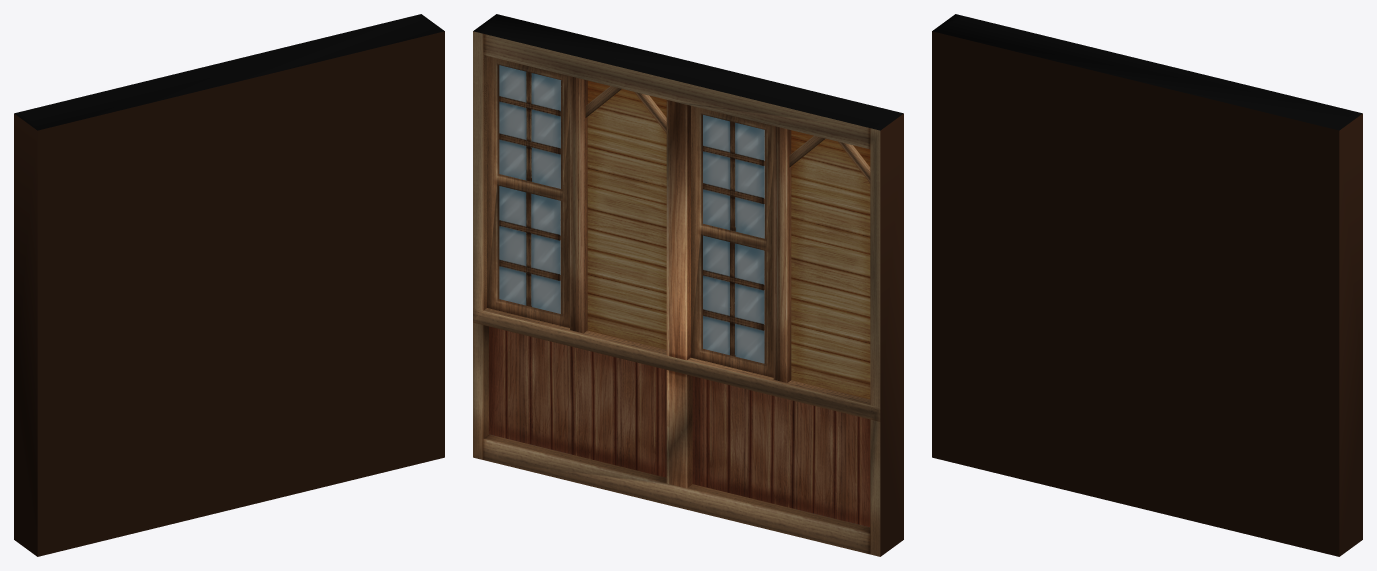
File: a_SWGowall02A.glb
The picture shows the model from 3 angles, left to right: view 1: azimuth 30°, elevation 25°; view 2: azimuth 150°, elevation 25°; view 3: azimuth 330°, elevation 25°; orthographic projection.
Parts seen in each view (by area): view 1: a_SWGowall02A; view 2: a_SWGowall02A; view 3: a_SWGowall02A.
Boxes of the visible parts, <box> form: a_SWGowall02A: <box>14,14,444,556</box>; a_SWGowall02A: <box>473,14,903,556</box>; a_SWGowall02A: <box>932,14,1362,556</box>.
Bounding box in the file's own units: 3 × 3 × 0.3004.
Materials: 3 (3 with a texture image).
